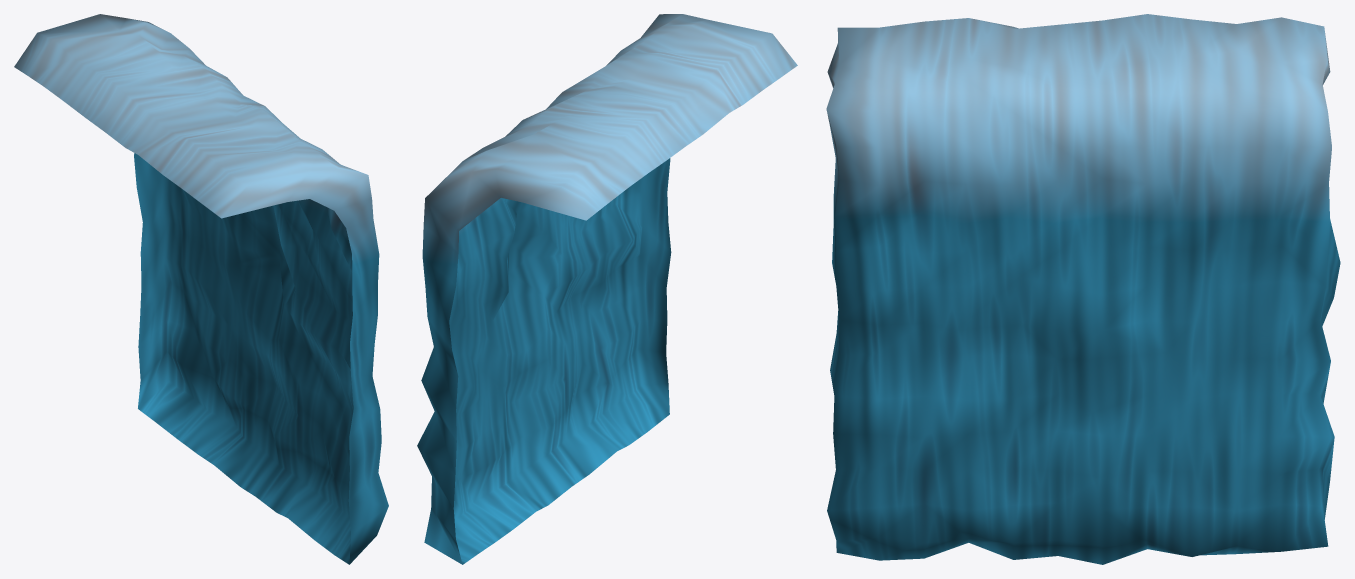
Rendered from IceWall.fbx.
3 renders of one model, left to right at view 1: azimuth 30°, elevation 25°; view 2: azimuth 150°, elevation 25°; view 3: azimuth 270°, elevation 25°, orthographic. The views are drawn at different scales.
Parts seen in each view (by area): view 1: Cube.002; view 2: Cube.002; view 3: Cube.002.
Boxes of the visible parts, <box> form: Cube.002: <box>14,14,388,564</box>; Cube.002: <box>417,14,797,564</box>; Cube.002: <box>826,14,1340,564</box>.
Bounding box in the file's own units: 1855 × 4128 × 3942.
1 material, 1 textured.
